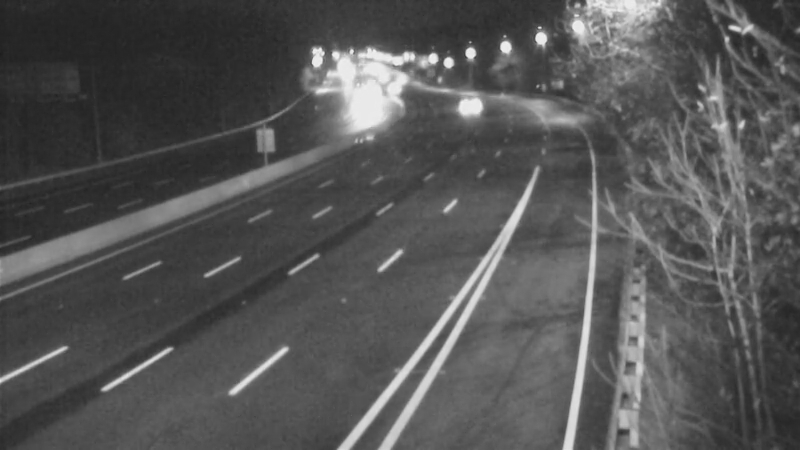vehicle: (369, 66, 419, 116), (437, 81, 487, 131), (335, 79, 385, 129)
